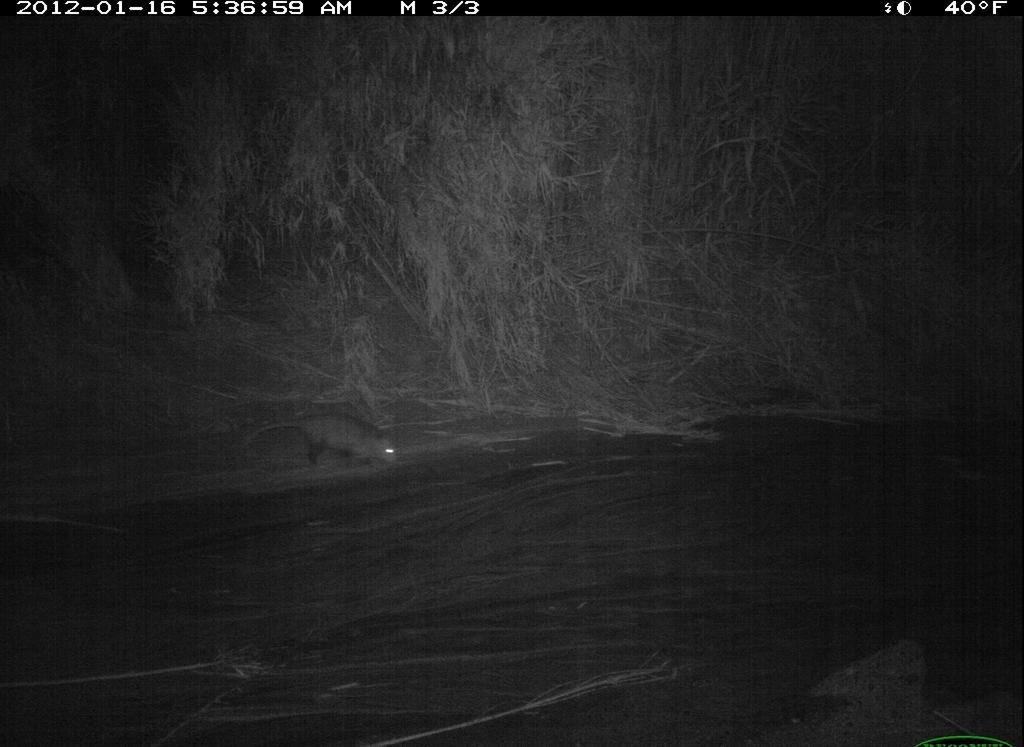opossum: (233, 408, 405, 486)
